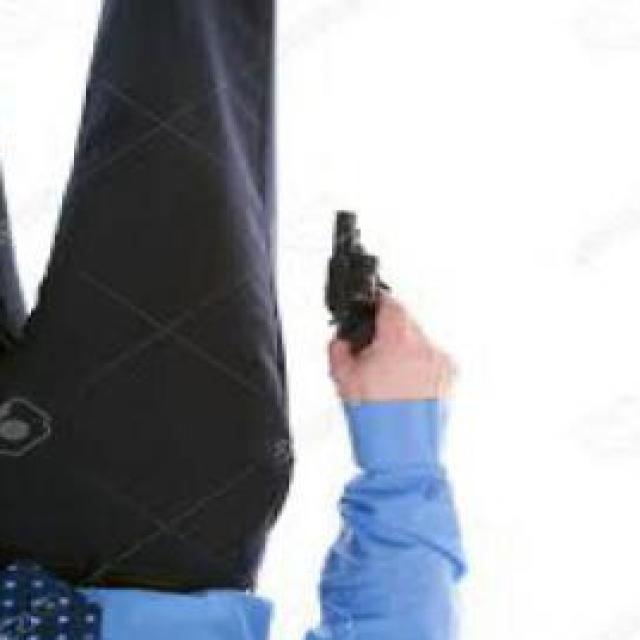pistol: (313, 211, 418, 363)
